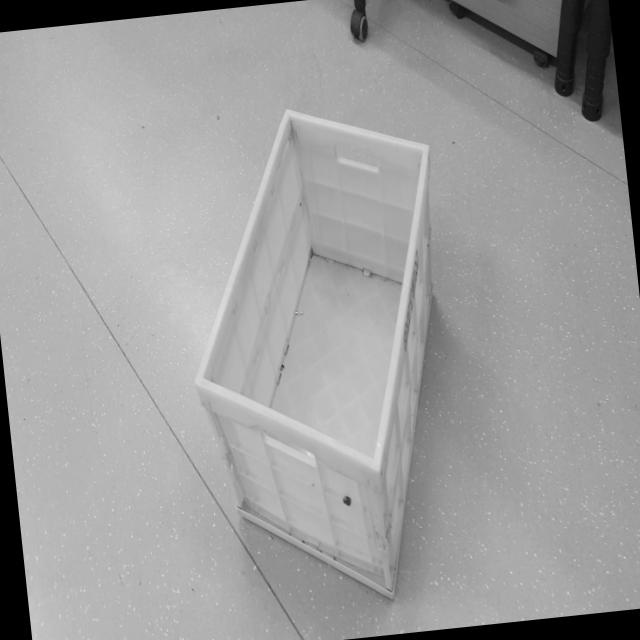box: (159, 72, 492, 624)
